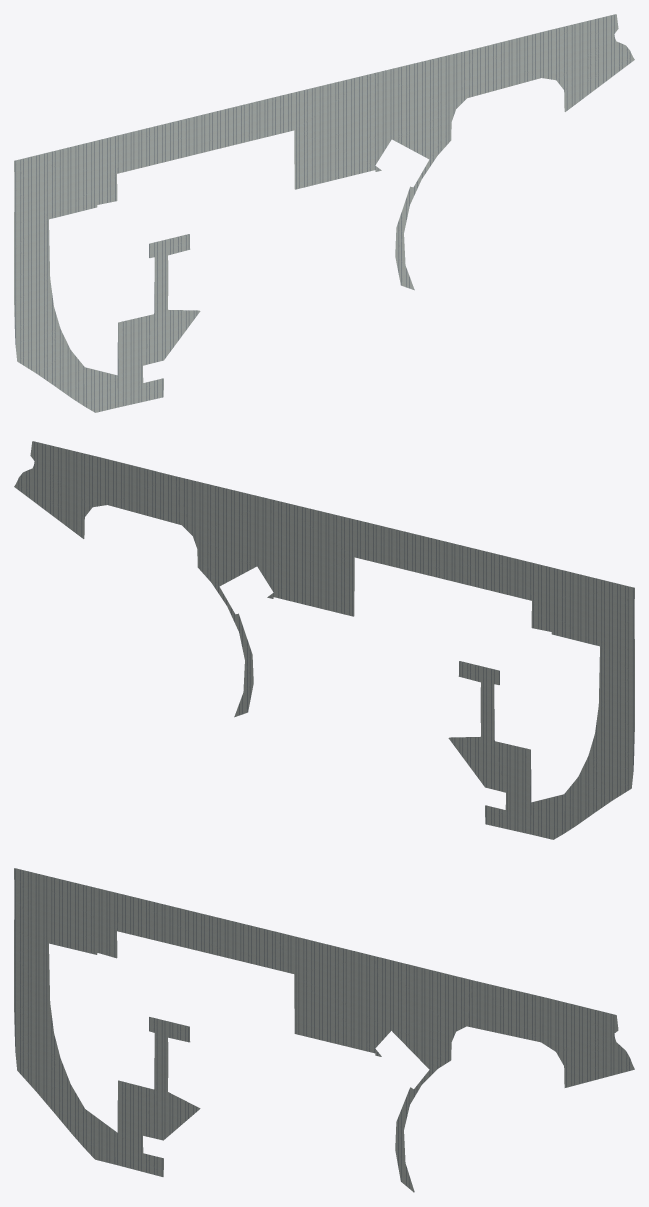
File: floor_51.obj
3 renders of one model, top to bottom at view 1: azimuth 30°, elevation 25°; view 2: azimuth 150°, elevation 25°; view 3: azimuth 330°, elevation 25°, orthographic.
Parts seen in each view (by area): view 1: floor_51; view 2: floor_51; view 3: floor_51.
Part boxes in pixels (<box>): floor_51: <box>14,14,634,412</box>; floor_51: <box>14,441,634,839</box>; floor_51: <box>14,868,634,1192</box>.
Bounding box in the file's own units: 78.79 × 33.08 × 0.1.
Materials: 1 (1 with a texture image).
